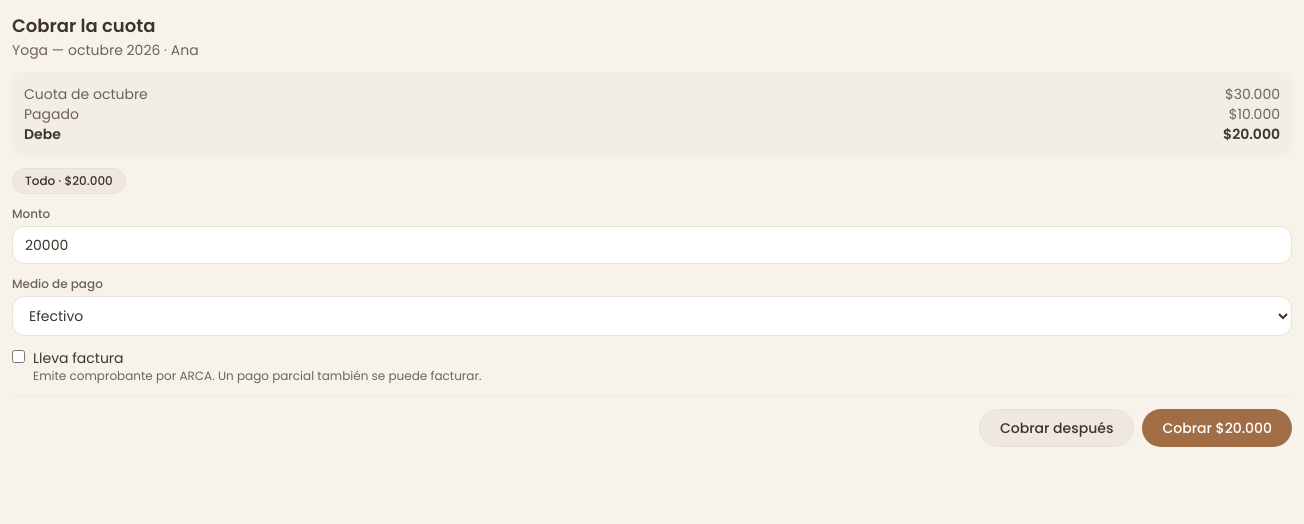
it: CobrarCuota › si la API falla muestra el mensaje y no avisa
This screenshot has width=1304, height=524.
Click the button "Cobrar $20.000" at (1217, 428), box [1142, 409, 1292, 447]
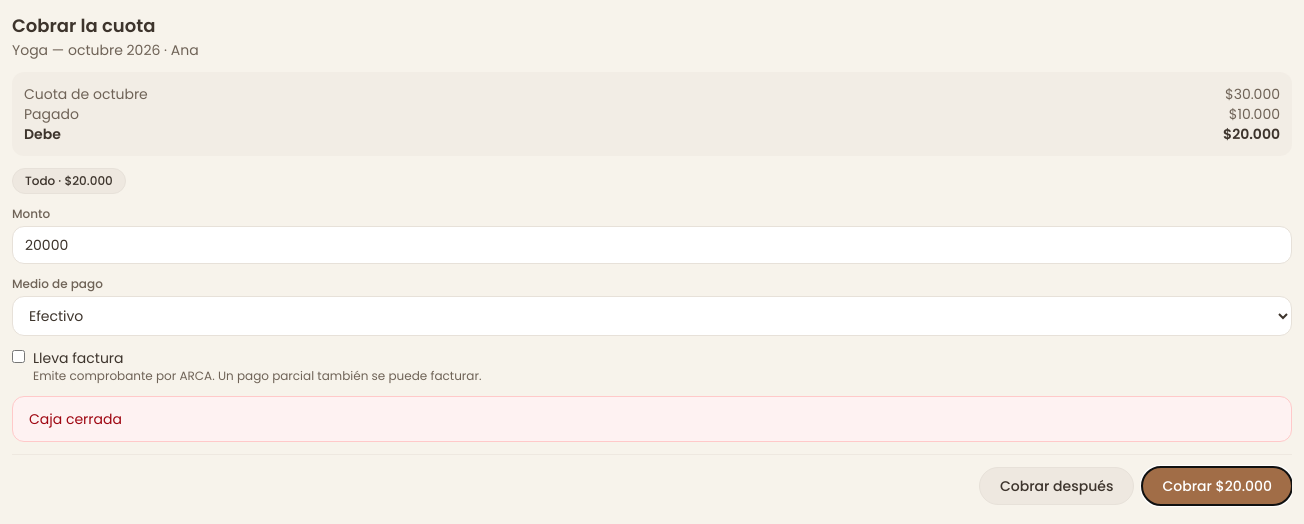
Check: the text "Caja cerrada" is shown, box [12, 396, 1292, 442]
